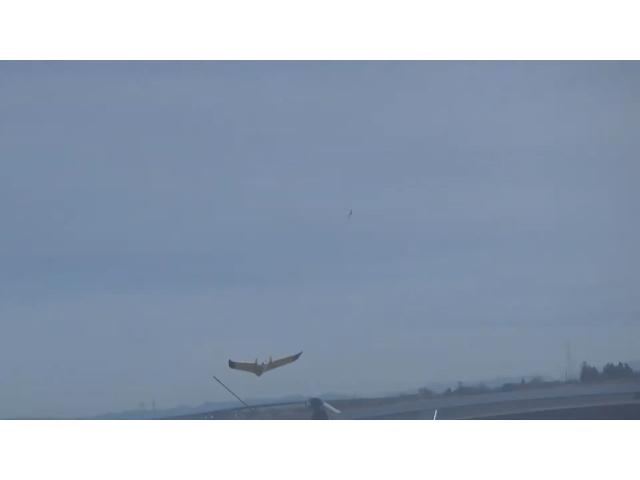Anti-Drone: (230, 352, 302, 376)
